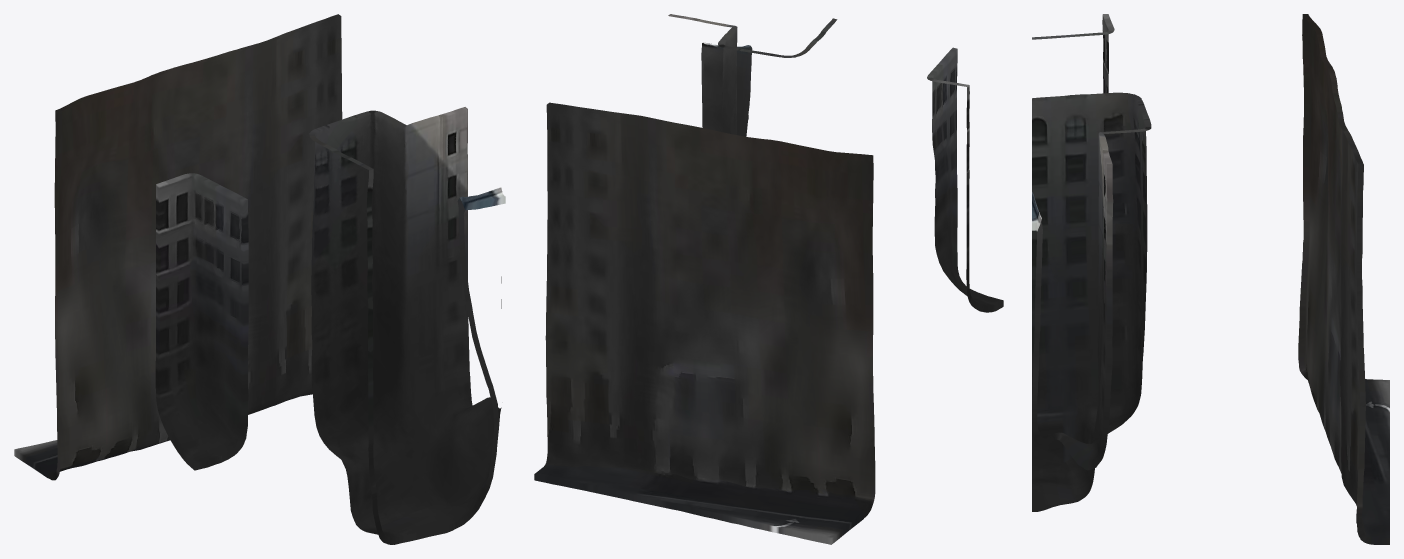
The model's file is z20-167765-405235-h0-yup-uvflip-v3-world.glb.
3 views of the same model, side by side, from view 1: azimuth 30°, elevation 25°; view 2: azimuth 150°, elevation 25°; view 3: azimuth 270°, elevation 25° (orthographic). The views are drawn at different scales.
Bounding box in the file's own units: 30.16 × 35.56 × 30.32.
1 material, 1 textured.
